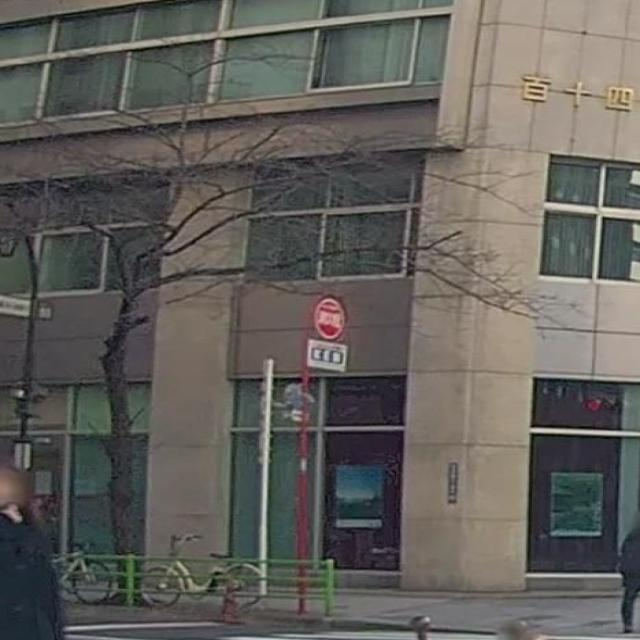sakura: (0, 24, 596, 605)
